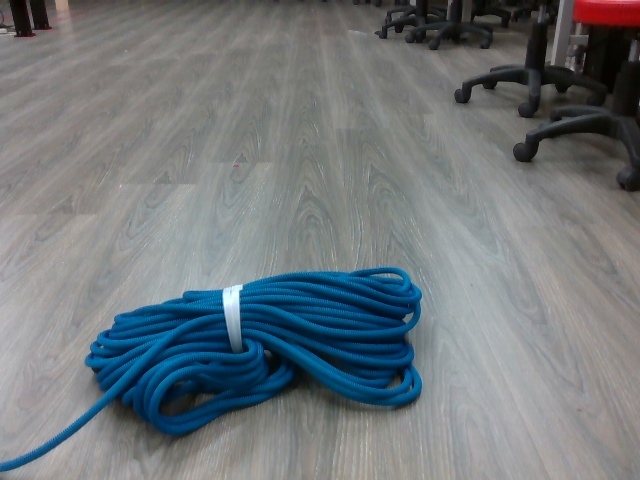rope: (83, 264, 425, 435)
